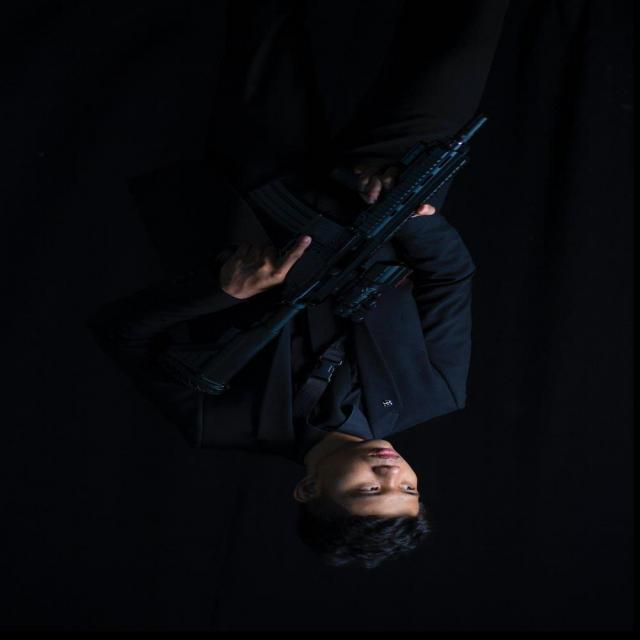weapon: (178, 115, 491, 397)
